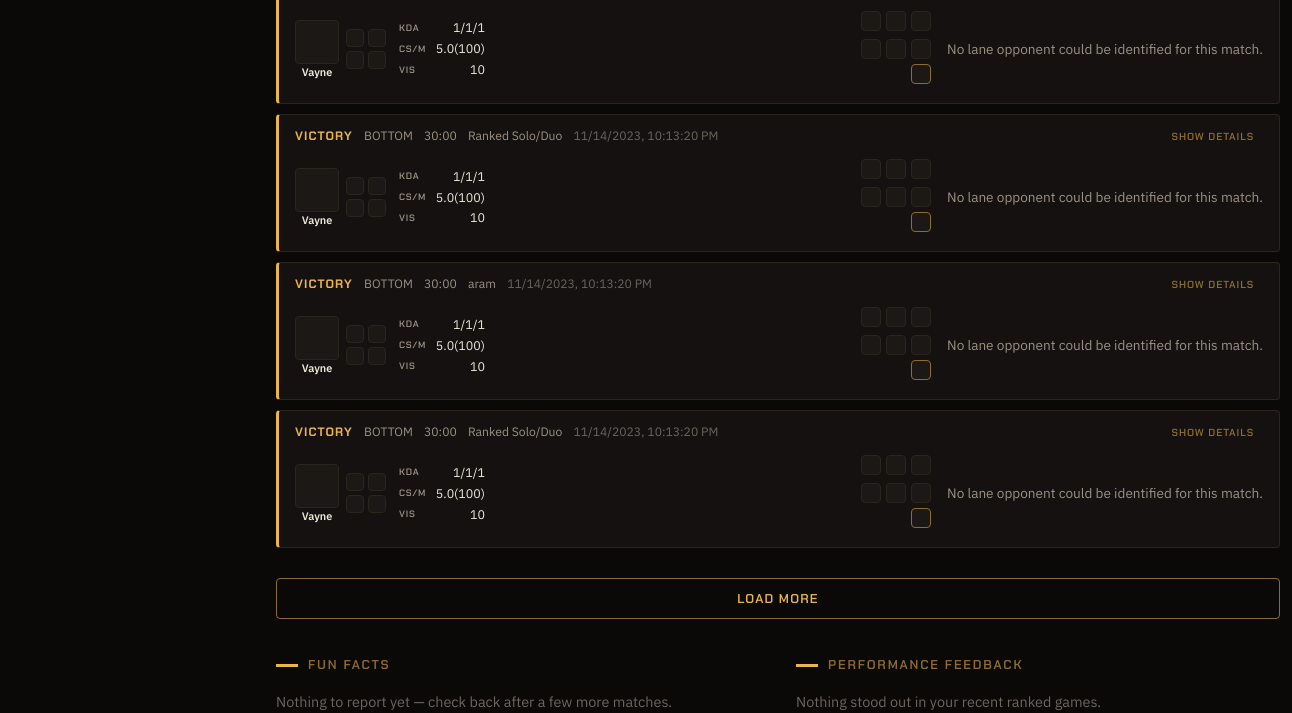
Scenario: Recent matches — load more › reveals another page each click, then hides the button at the end
(page scrolled)
Click the button with test id "recent-matches-load-more": click(778, 599) x1=276 y1=578 x2=1280 y2=619
(page scrolled)
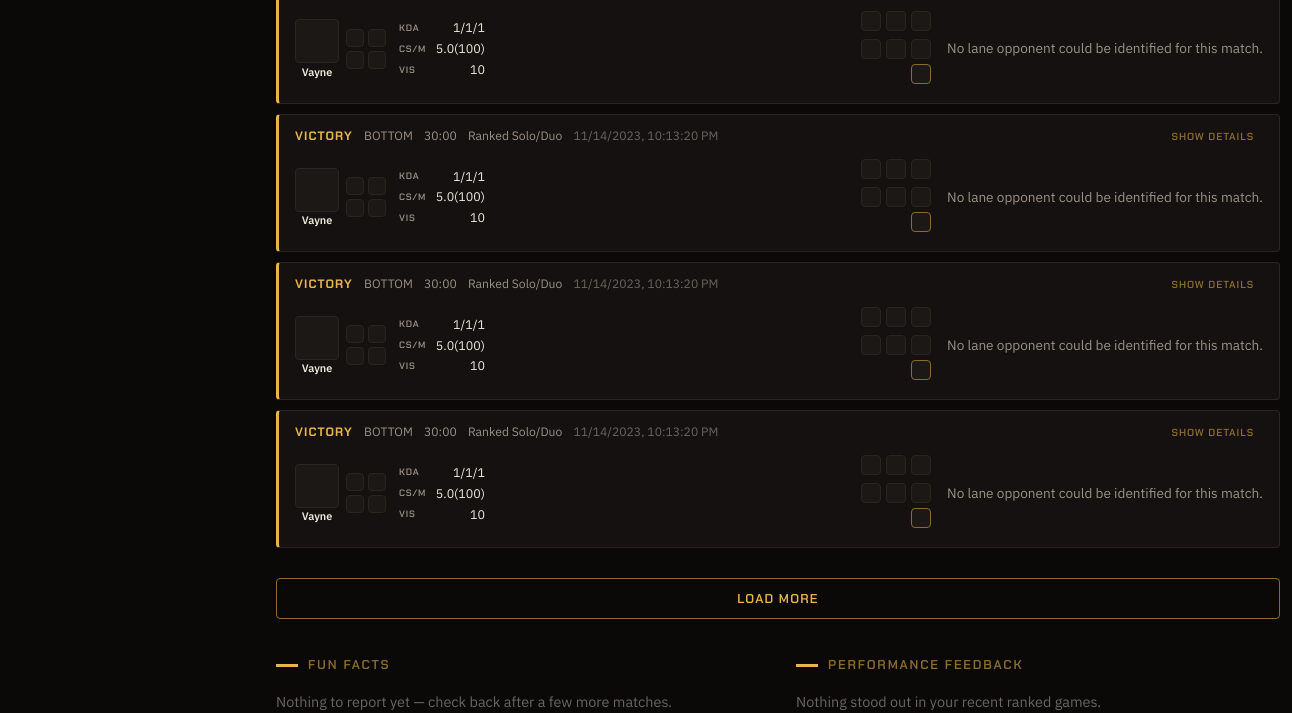
Expected: the list item with test id "recent-match-NA1_19" is shown, x1=276 y1=410 x2=1280 y2=548
Click the button with test id "recent-matches-load-more": click(778, 599) x1=276 y1=578 x2=1280 y2=619
(page scrolled)
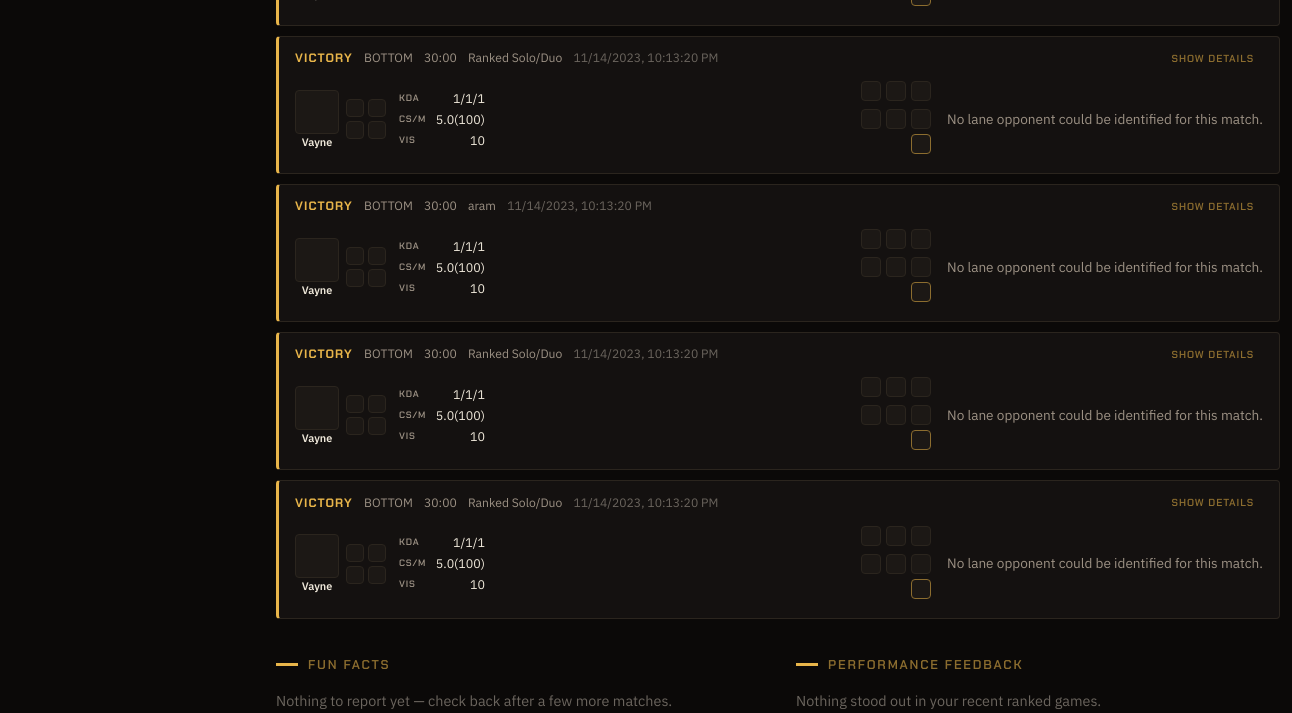
Now the list item with test id "recent-match-NA1_22" is shown, box x1=276 y1=480 x2=1280 y2=618
Now the button with test id "recent-matches-load-more" is gone
